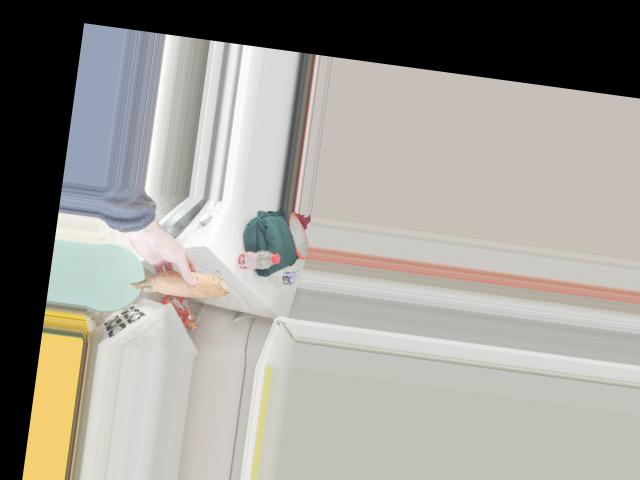sweet_potato: (136, 260, 225, 303)
